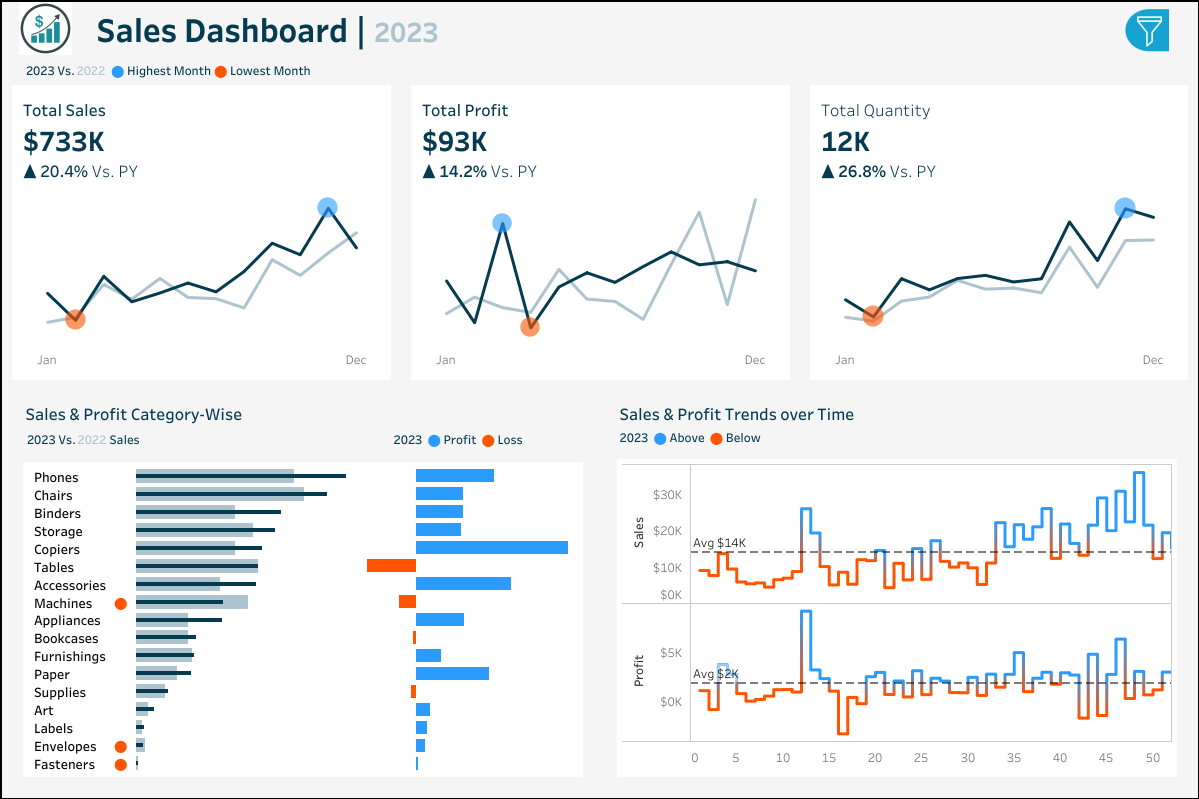

The page's visual inventory and layout, read from the dashboard file:
{"tool":"tableau","page":{"name":"Sales Dashboard","canvas":[1200,800],"ordinal":0},"visuals":[{"type":"text","box":[6,6,860,54]},{"type":"dashboard-object","box":[866,6,164,54]},{"type":"dashboard-object","box":[1030,6,164,54]},{"type":"dashboard-object","box":[794,30,24,24]},{"type":"parameter","param":"[Parameters].[Parameter 1]","box":[688,34,154,32.5]},{"type":"worksheet","title":"KPI Sales","mark":"Automatic","rows":["Calculation_959548235973824517"],"cols":["Order Date"],"box":[6,66,396,317]},{"type":"worksheet","title":"KPI Profit","mark":"Automatic","rows":["HighLow Sales (copy)_959548236094894100"],"cols":["Order Date"],"box":[402,66,396,317]},{"type":"worksheet","title":"KPI Quantity","mark":"Automatic","rows":["HighLow Profit Values (copy)_959548236102025242"],"cols":["Order Date"],"box":[798,66,396,317]},{"type":"legend","title":"KPI Sales","param":"[federated.0strdru1k1cb3g18slo3e17orwnl].[:Measure Names]","box":[688,66.5,154,32.5]},{"type":"legend","title":"KPI Sales","param":"[federated.0strdru1k1cb3g18slo3e17orwnl].[usr:Calculation_959548235973824517:qk]","box":[688,99,154,32.5]},{"type":"legend","title":"KPI Profit","param":"[federated.0strdru1k1cb3g18slo3e17orwnl].[usr:HighLow Sales (copy)_9595482360948","box":[688,131.5,154,32.5]},{"type":"legend","title":"KPI Quantity","param":"[federated.0strdru1k1cb3g18slo3e17orwnl].[usr:HighLow Profit Values (copy)_95954","box":[688,164,154,32.5]},{"type":"legend","title":"SubCategory Comparison","param":"[federated.0strdru1k1cb3g18slo3e17orwnl].[sum:CY Sales (copy)_959548236093329425","box":[688,196.5,154,32.5]},{"type":"legend","title":"SalesProfitWeeklyTrend","param":"[federated.0strdru1k1cb3g18slo3e17orwnl].[usr:Calculation_959548236483514402:nk]","box":[688,229,154,32.5]},{"type":"legend","title":"SalesProfitWeeklyTrend","param":"[federated.0strdru1k1cb3g18slo3e17orwnl].[usr:KPI Sales Avg (copy)_9595482364840","box":[688,261.5,154,32.5]},{"type":"worksheet","title":"SubCategory Comparison","mark":"Bar","rows":["Sub-Category","Calculation_959548236378755105"],"cols":["Calculation_959548235970879490","Calculation_959548235966582785","CY Sales (copy)_959548236093329425"],"box":[6,389,594,376]},{"type":"worksheet","title":"SalesProfitWeeklyTrend","mark":"Automatic","rows":["Calculation_959548235966582785","CY Sales (copy)_959548236093329425"],"cols":["Order Date"],"box":[600,389,594,376]}]}

Visuals, with their boxes in screenshot pixels (x1, y1, x2, y2), scaled from the page's 1200x800 canvas onto the 1199x799 screenshot:
text: BBox(6, 6, 865, 60)
dashboard-object: BBox(865, 6, 1029, 60)
dashboard-object: BBox(1029, 6, 1193, 60)
dashboard-object: BBox(793, 30, 817, 54)
parameter: BBox(687, 34, 841, 66)
"KPI Sales" worksheet: BBox(6, 66, 402, 383)
"KPI Profit" worksheet: BBox(402, 66, 797, 383)
"KPI Quantity" worksheet: BBox(797, 66, 1193, 383)
"KPI Sales" legend: BBox(687, 66, 841, 99)
"KPI Sales" legend: BBox(687, 99, 841, 131)
"KPI Profit" legend: BBox(687, 131, 841, 164)
"KPI Quantity" legend: BBox(687, 164, 841, 196)
"SubCategory Comparison" legend: BBox(687, 196, 841, 229)
"SalesProfitWeeklyTrend" legend: BBox(687, 229, 841, 261)
"SalesProfitWeeklyTrend" legend: BBox(687, 261, 841, 294)
"SubCategory Comparison" worksheet (Bar marks): BBox(6, 389, 600, 764)
"SalesProfitWeeklyTrend" worksheet: BBox(600, 389, 1193, 764)
